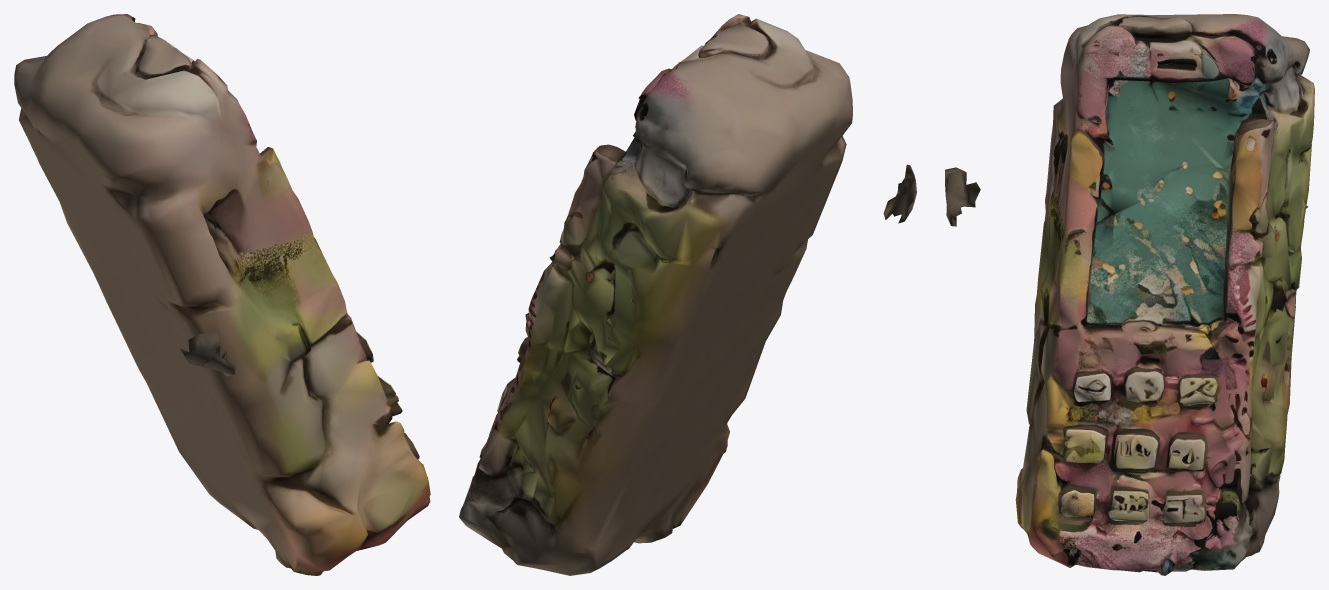
The model's file is phone.glb.
3 views of the same model, side by side, from view 1: azimuth 30°, elevation 25°; view 2: azimuth 150°, elevation 25°; view 3: azimuth 270°, elevation 25° (orthographic). The views are drawn at different scales.
Visible parts, largest first — view 1: tripo_node_5163cda8; view 2: tripo_node_5163cda8; view 3: tripo_node_5163cda8.
Boxes of the visible parts, left/top/right/bottom form: tripo_node_5163cda8: left=14, top=14, right=430, bottom=575; tripo_node_5163cda8: left=459, top=14, right=916, bottom=575; tripo_node_5163cda8: left=945, top=14, right=1314, bottom=575.
Bounding box in the file's own units: 0.6204 × 0.9987 × 0.6792.
Materials: 1 (1 with a texture image).
